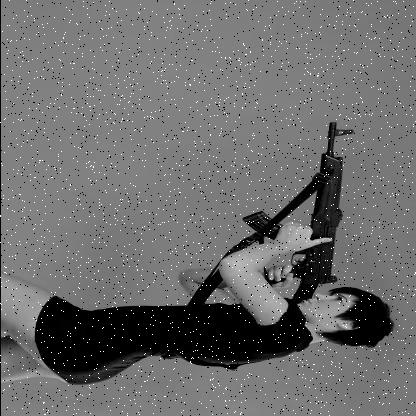rifle: (241, 121, 359, 309)
